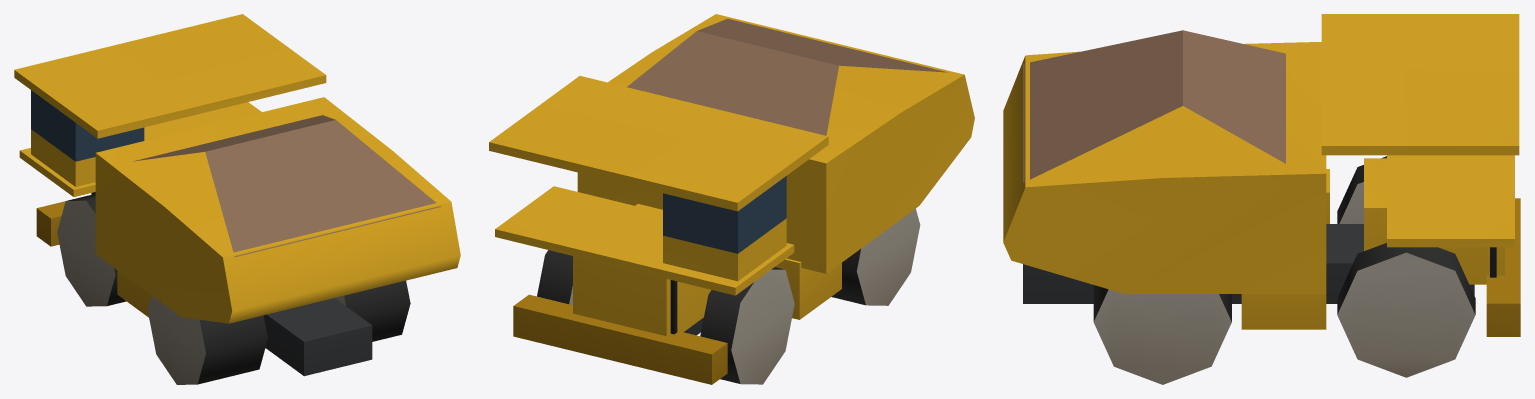
Rendered from cat785c_lod1.glb.
The picture shows the model from 3 angles, left to right: view 1: azimuth 30°, elevation 25°; view 2: azimuth 150°, elevation 25°; view 3: azimuth 270°, elevation 25°; orthographic projection. The views are drawn at different scales.
Parts seen in each view (by area): view 1: body, load, frame, wheel_RL, wheel_FL, wheel_RR; view 2: body, frame, load, wheel_FL, wheel_RL, wheel_FR; view 3: body, frame, load, wheel_FR, wheel_RR, wheel_FL.
Part boxes in pixels (left/top/right/bottom): body: left=14, top=14, right=460, bottom=323; load: left=132, top=115, right=440, bottom=257; frame: left=19, top=90, right=372, bottom=376; wheel_RL: left=147, top=296, right=267, bottom=384; wheel_FL: left=57, top=194, right=126, bottom=306; wheel_RR: left=335, top=280, right=410, bottom=341; body: left=489, top=14, right=974, bottom=273; frame: left=495, top=176, right=841, bottom=384; load: left=627, top=18, right=947, bottom=135; wheel_FL: left=700, top=267, right=794, bottom=384; wheel_RL: left=831, top=208, right=920, bottom=305; wheel_FR: left=537, top=250, right=572, bottom=305; body: left=1003, top=14, right=1519, bottom=293; frame: left=1023, top=155, right=1520, bottom=336; load: left=1023, top=30, right=1285, bottom=182; wheel_FR: left=1337, top=243, right=1475, bottom=377; wheel_RR: left=1093, top=285, right=1231, bottom=384; wheel_FL: left=1337, top=156, right=1386, bottom=223.
Size of the model in its own units: 6.64 by 6.05 by 11.
